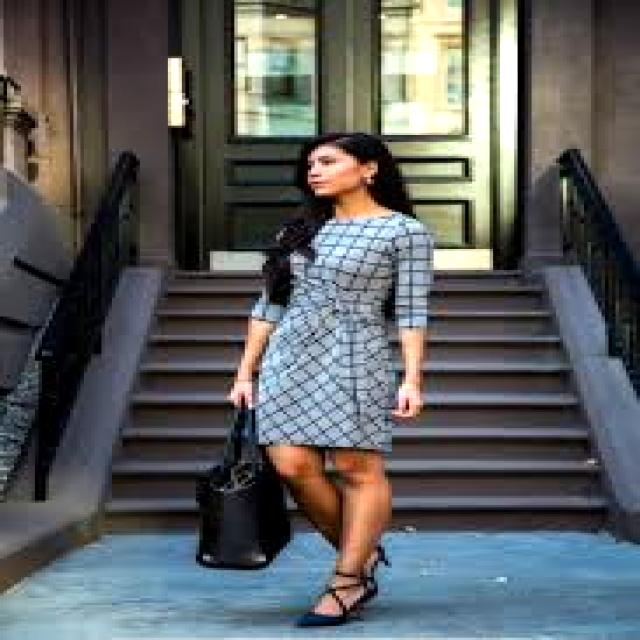dress: (252, 212, 433, 451)
face: (308, 145, 377, 197)
foot-wear: (298, 571, 370, 626), (361, 545, 391, 605)
